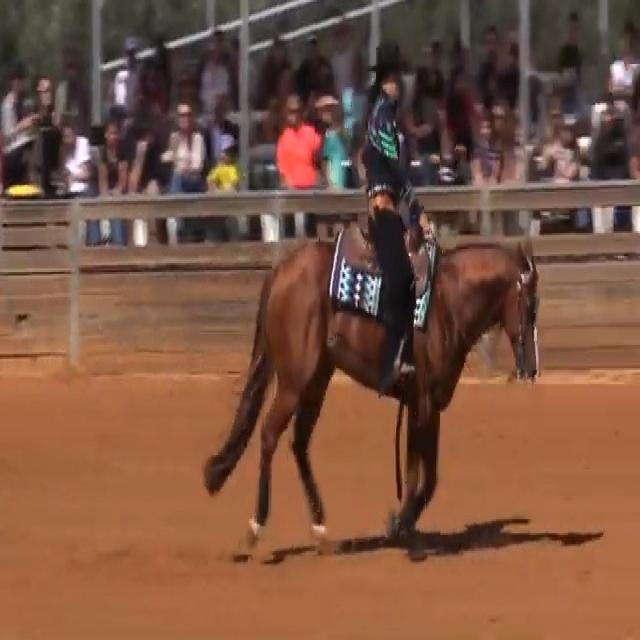horse: (201, 218, 541, 554)
